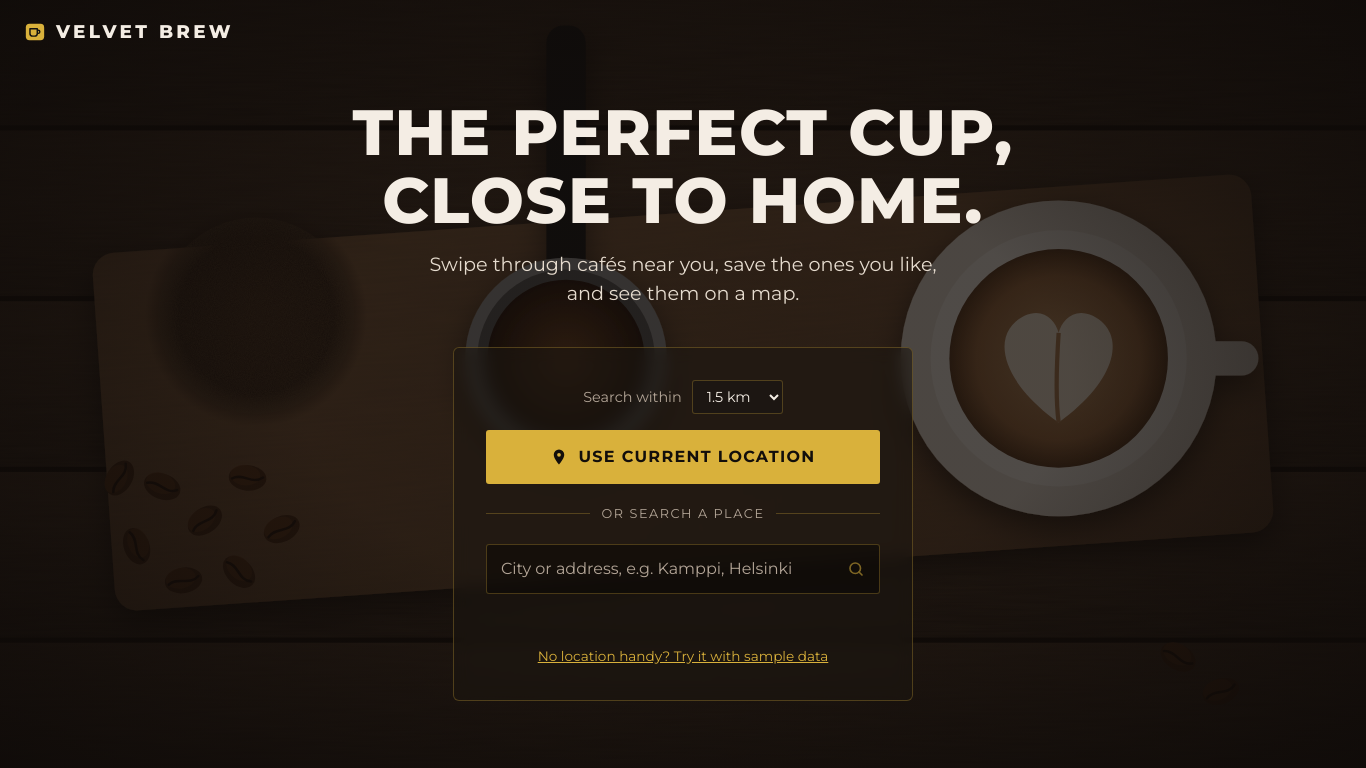
Test: App › shows an error when the place is not found
Type "Nowhereville" into the search field labelled "City or address, e.g. Kamppi, Helsinki" at (660, 569), box [487,545,833,593]
Then press Enter
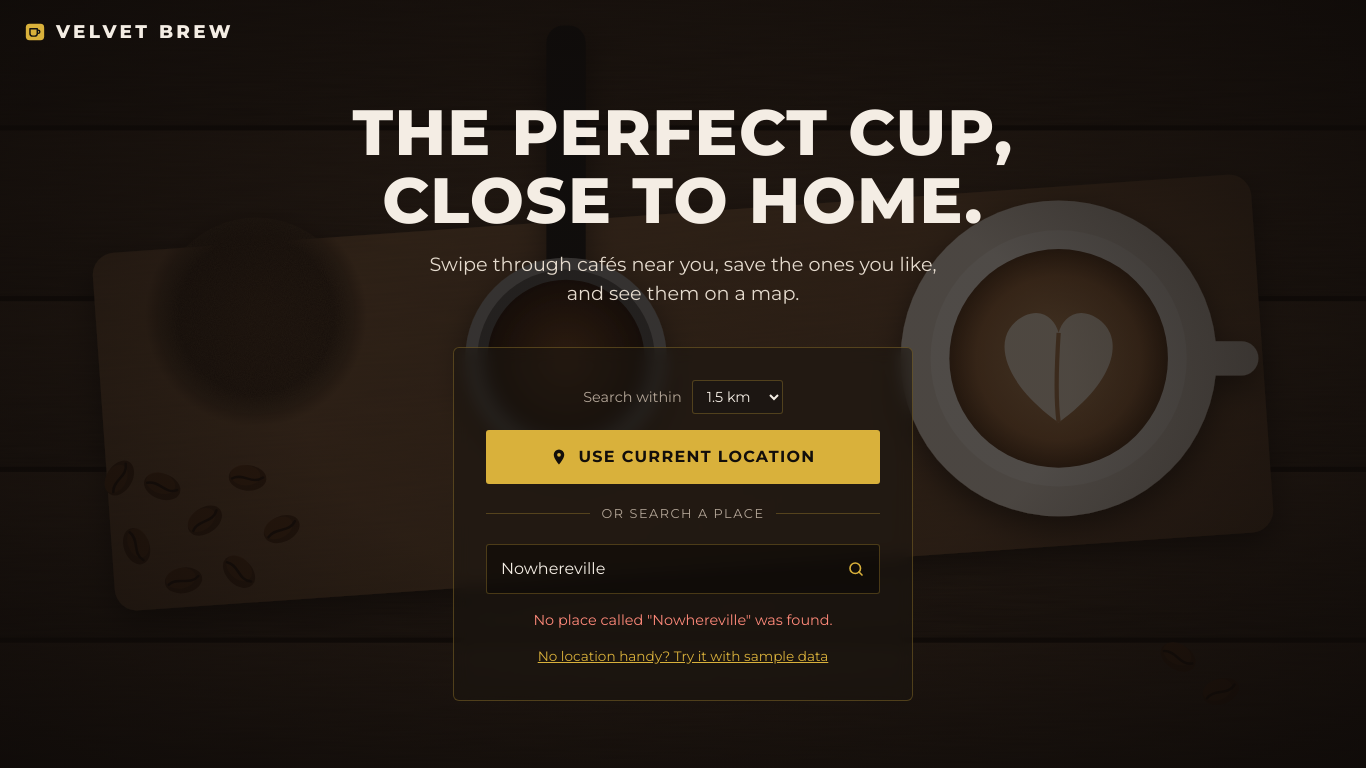
Expected: the message shows "No place called \"Nowhereville\"", [533,611,833,629]
